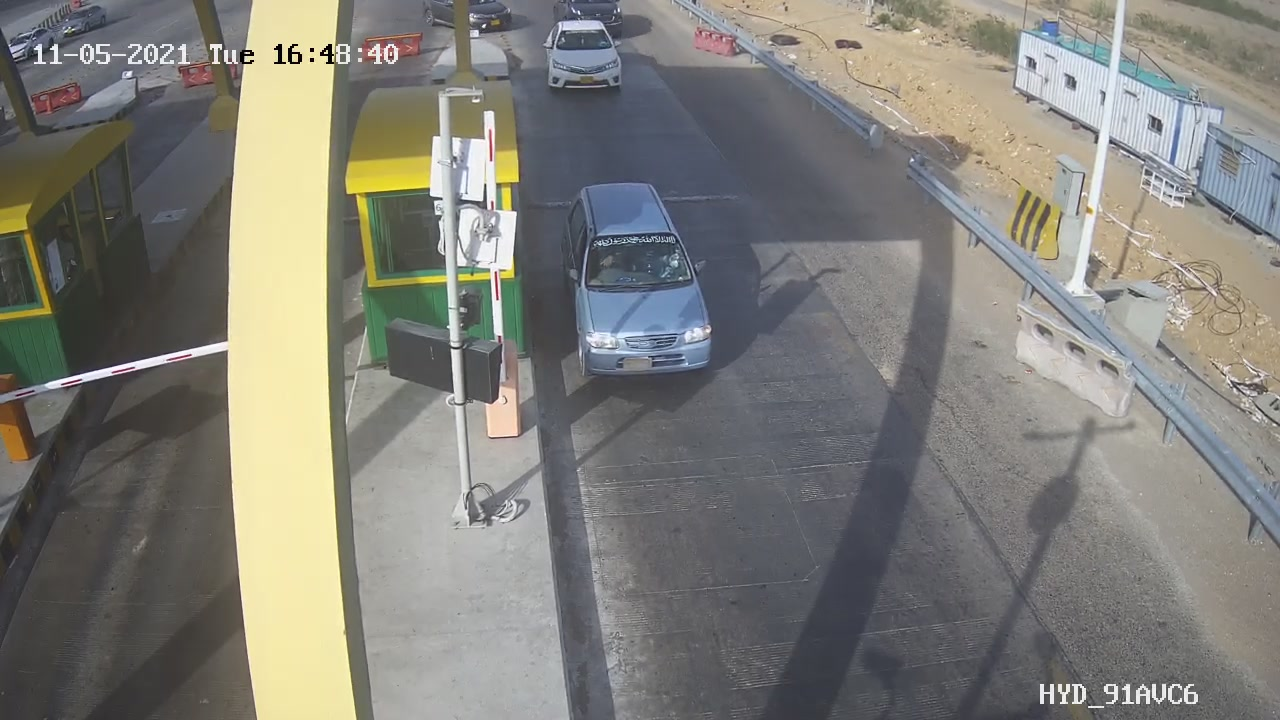F1: (548, 175, 735, 390), (531, 13, 637, 101)
